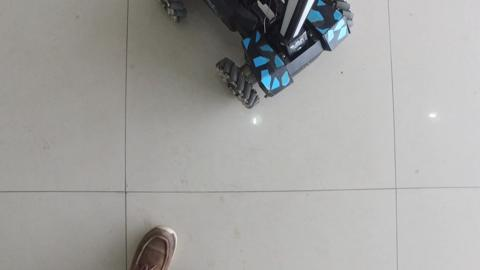chariot: (141, 1, 384, 114)
